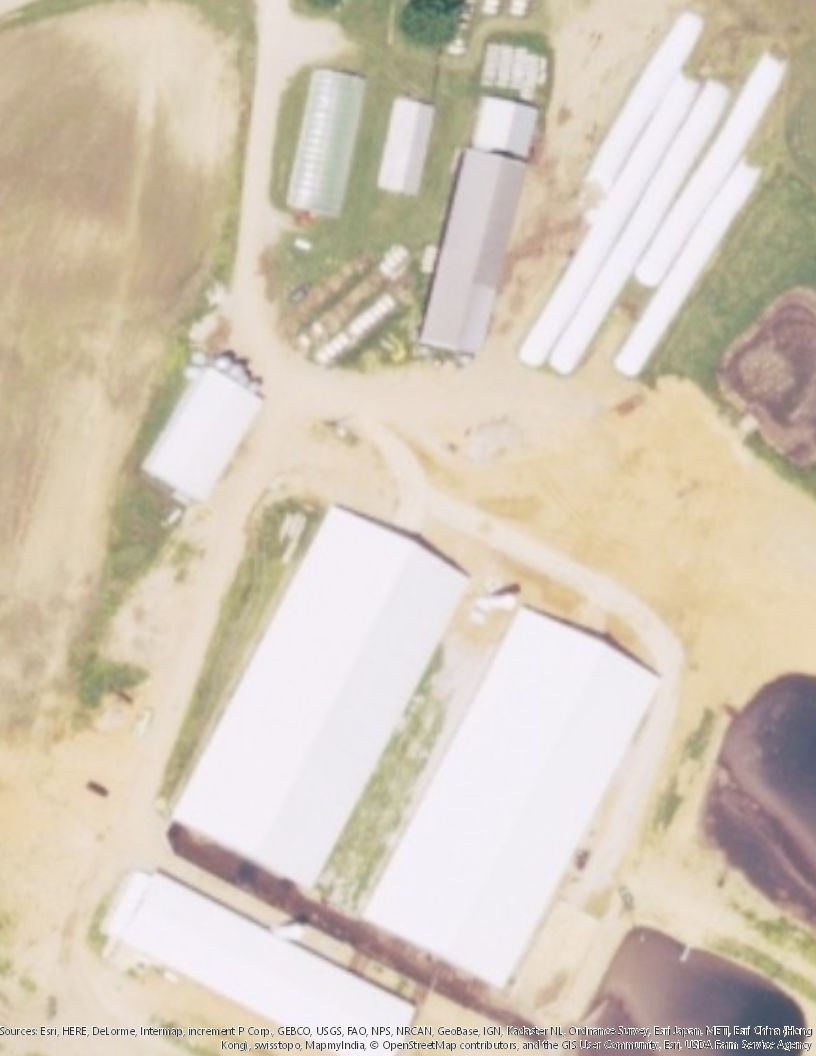cafo: (153, 494, 481, 905), (345, 602, 681, 996), (93, 845, 444, 1056), (132, 339, 287, 515), (419, 143, 540, 362), (278, 62, 384, 226)
